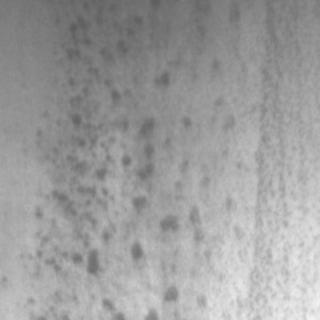pitted_surface: (39, 2, 227, 316), (242, 0, 310, 316)
